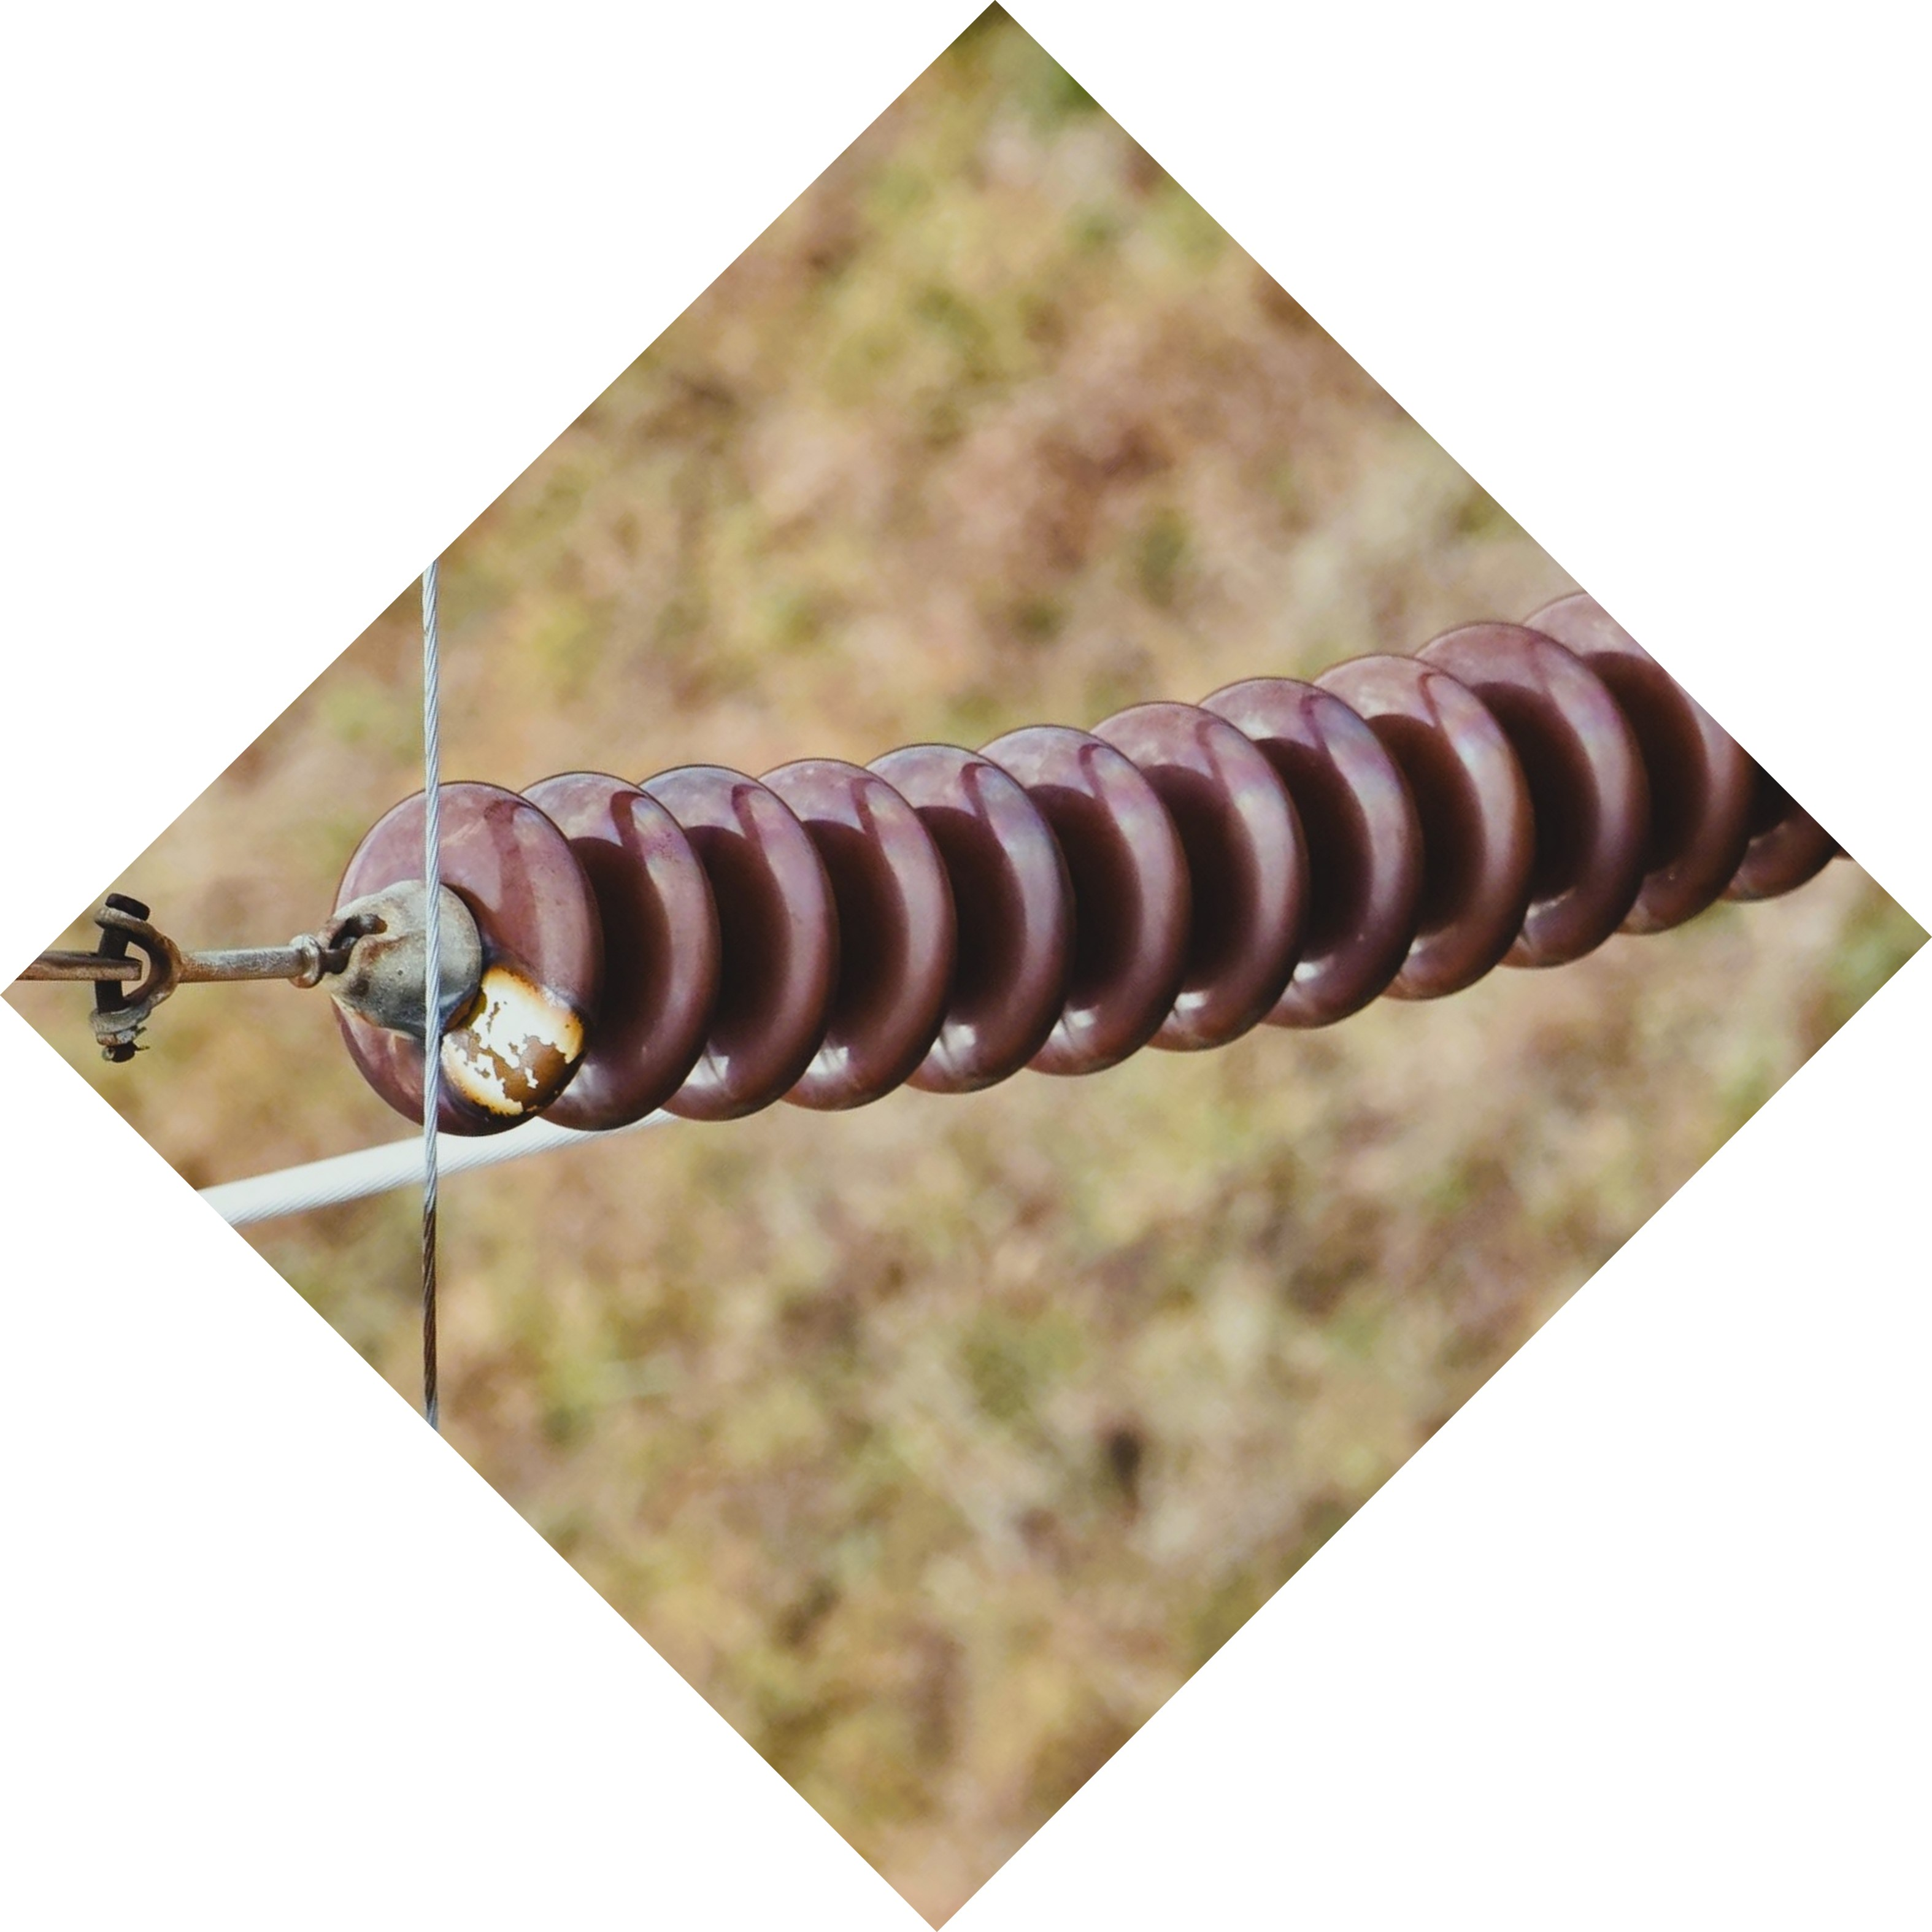Insulator flashover: (324, 764, 603, 1155)
